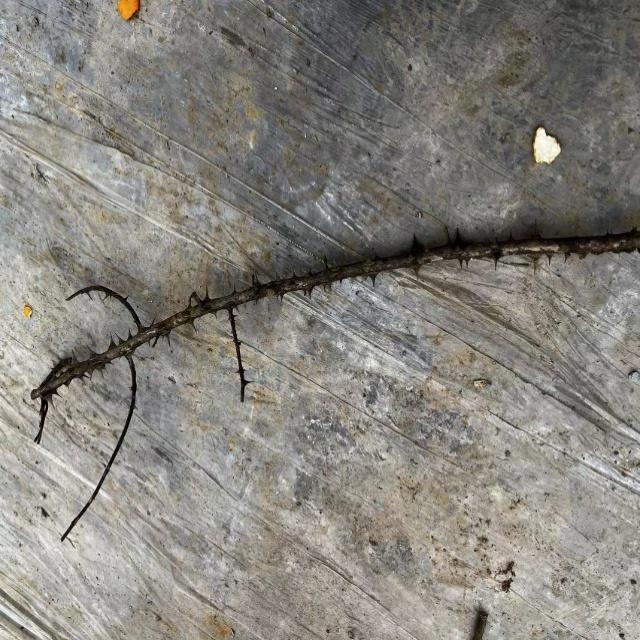branch: (32, 227, 640, 402)
